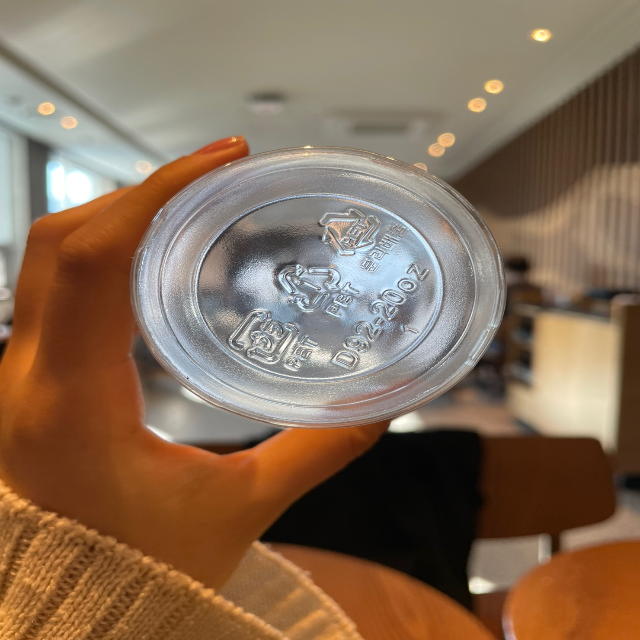pet: (215, 302, 322, 376), (313, 202, 409, 273), (274, 256, 362, 320)
